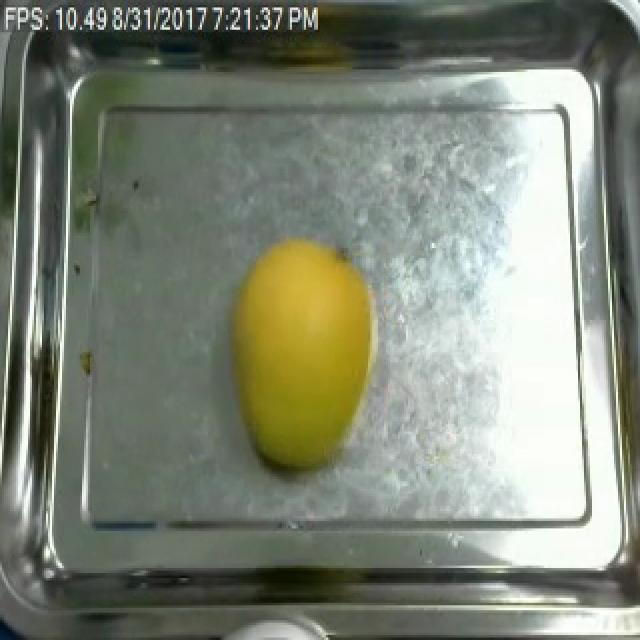fruit: (212, 228, 392, 486)
